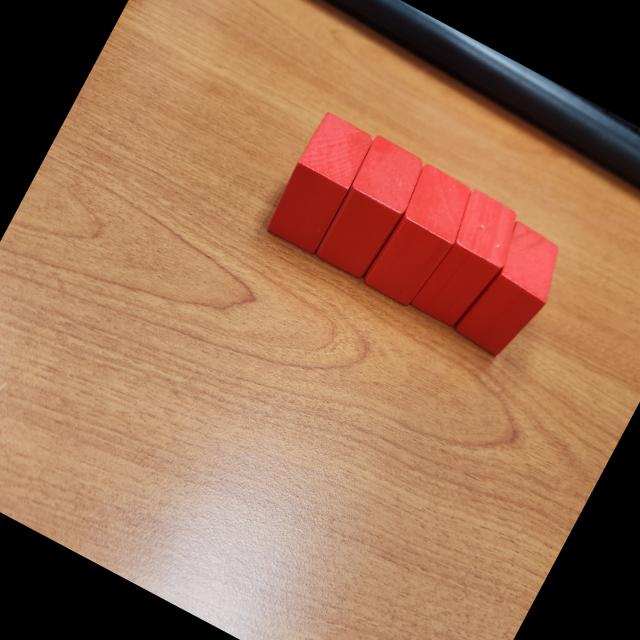red: (359, 160, 482, 312), (408, 185, 530, 335), (310, 132, 430, 282), (452, 217, 574, 364), (260, 109, 377, 257)
